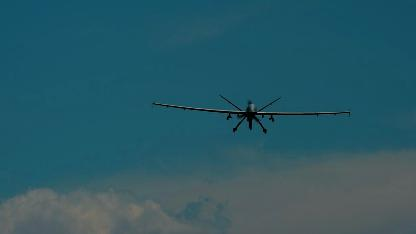MQ9: (152, 95, 352, 133)
